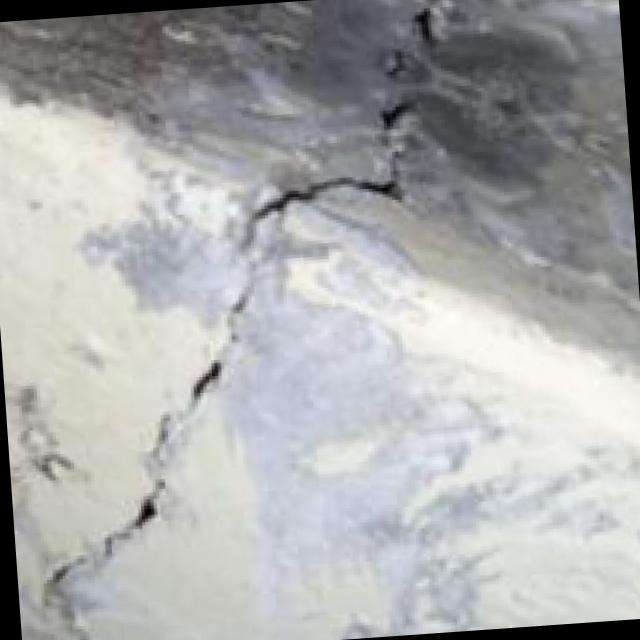crack: (1, 0, 491, 602)
